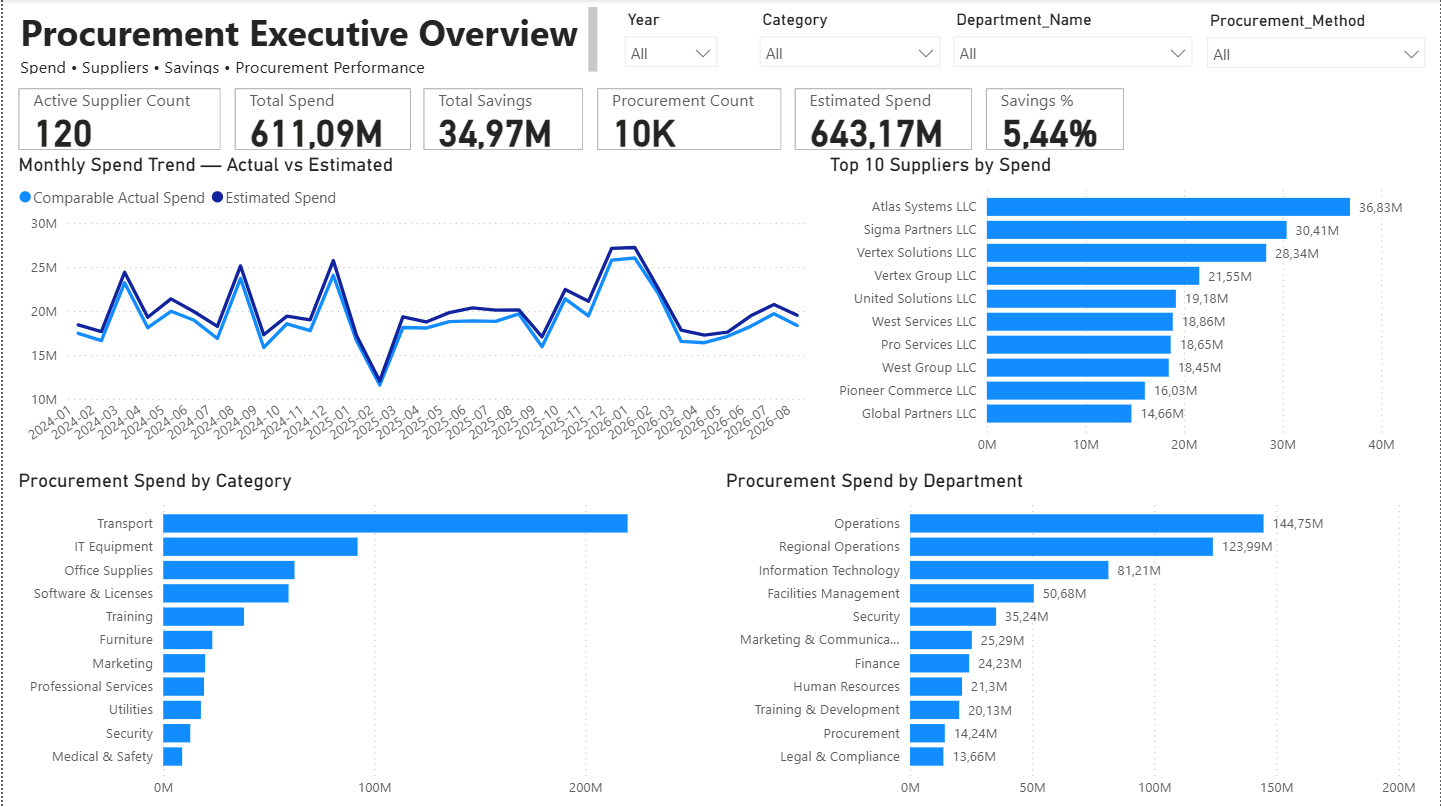

This screenshot's page, from the dashboard's own definition file:
{"tool":"powerbi","page":{"name":"Executive Overview","canvas":[1280,720],"ordinal":0},"visuals":[{"type":"cardVisual","fields":{"Data":["Fact_Procurement.Active Supplier Count"]},"box":[9,75,190.6,65],"z":0},{"type":"cardVisual","fields":{"Data":["Fact_Procurement.Estimated Spend"]},"box":[700,75,168,65],"z":1000},{"type":"cardVisual","fields":{"Data":["Fact_Procurement.Total Spend"]},"box":[201,75,167,65],"z":2000},{"type":"cardVisual","fields":{"Data":["Fact_Procurement.Savings %"]},"box":[870,75,133.9,65],"z":3000},{"type":"cardVisual","fields":{"Data":["Fact_Procurement.Total Savings"]},"box":[370,75,152,65],"z":4000},{"type":"cardVisual","fields":{"Data":["Fact_Procurement.Procurement Count"]},"box":[524,75,174,65],"z":5000},{"type":"lineChart","title":"Monthly Spend Trend — Actual vs Estimated","fields":{"Category":["Dim_Date.Year_Month"],"Y":["Fact_Procurement.Comparable Actual Spend","Fact_Procurement.Estimated Spend"]},"box":[9,137,711.8,278],"z":6000},{"type":"clusteredBarChart","title":"Procurement Spend by Category","fields":{"Category":["Dim_Category.Category"],"Y":["Fact_Procurement.Total Spend"]},"box":[9,418,625,302],"z":7000},{"type":"clusteredBarChart","title":"Top 10 Suppliers by Spend","fields":{"Category":["Dim_Supplier.Supplier_Name"],"Y":["Fact_Procurement.Total Spend"]},"box":[731.1,137,533.2,278],"z":8000},{"type":"clusteredBarChart","title":"Procurement Spend by Department","fields":{"Category":["Dim_Department.Department_Name"],"Y":["Fact_Procurement.Total Spend"]},"box":[639.4,418,625,302],"z":9000},{"type":"slicer","fields":{"Values":["Dim_Date.Year"]},"box":[543,4.8,102.5,71.2],"z":10000},{"type":"slicer","fields":{"Values":["Dim_Category.Category"]},"box":[663.5,4.8,181,71.2],"z":11000},{"type":"slicer","fields":{"Values":["Dim_Department.Department_Name"]},"box":[836.1,4.8,232.8,71.2],"z":12000},{"type":"slicer","fields":{"Values":["Fact_Procurement.Procurement_Method"]},"box":[1061.7,6,214.7,71.2],"z":13000},{"type":"textbox","box":[9.6,2.7,524.2,70],"z":14000}]}

Visuals, with their boxes in screenshot pixels (x1, y1, x2, y2), scaled from the page's 1280x720 canvas onto the 1441x807 screenshot:
cardVisual - Fact_Procurement.Active Supplier Count: box=[10, 84, 225, 157]
cardVisual - Fact_Procurement.Estimated Spend: box=[788, 84, 977, 157]
cardVisual - Fact_Procurement.Total Spend: box=[226, 84, 414, 157]
cardVisual - Fact_Procurement.Savings %: box=[979, 84, 1130, 157]
cardVisual - Fact_Procurement.Total Savings: box=[417, 84, 588, 157]
cardVisual - Fact_Procurement.Procurement Count: box=[590, 84, 786, 157]
"Monthly Spend Trend — Actual vs Estimated" lineChart: box=[10, 154, 811, 465]
"Procurement Spend by Category" clusteredBarChart: box=[10, 469, 714, 806]
"Top 10 Suppliers by Spend" clusteredBarChart: box=[823, 154, 1423, 465]
"Procurement Spend by Department" clusteredBarChart: box=[720, 469, 1423, 806]
slicer - Dim_Date.Year: box=[611, 5, 727, 85]
slicer - Dim_Category.Category: box=[747, 5, 951, 85]
slicer - Dim_Department.Department_Name: box=[941, 5, 1203, 85]
slicer - Fact_Procurement.Procurement_Method: box=[1195, 7, 1437, 87]
textbox: box=[11, 3, 601, 81]
